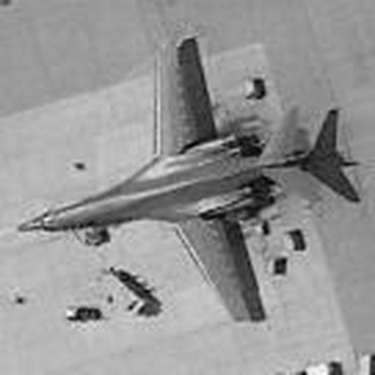airplane: (14, 20, 349, 342)
